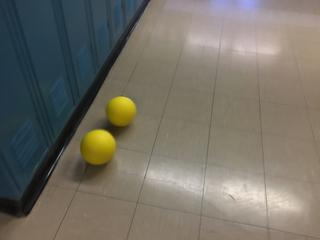power_cell: (78, 127, 116, 166), (101, 94, 141, 130)
